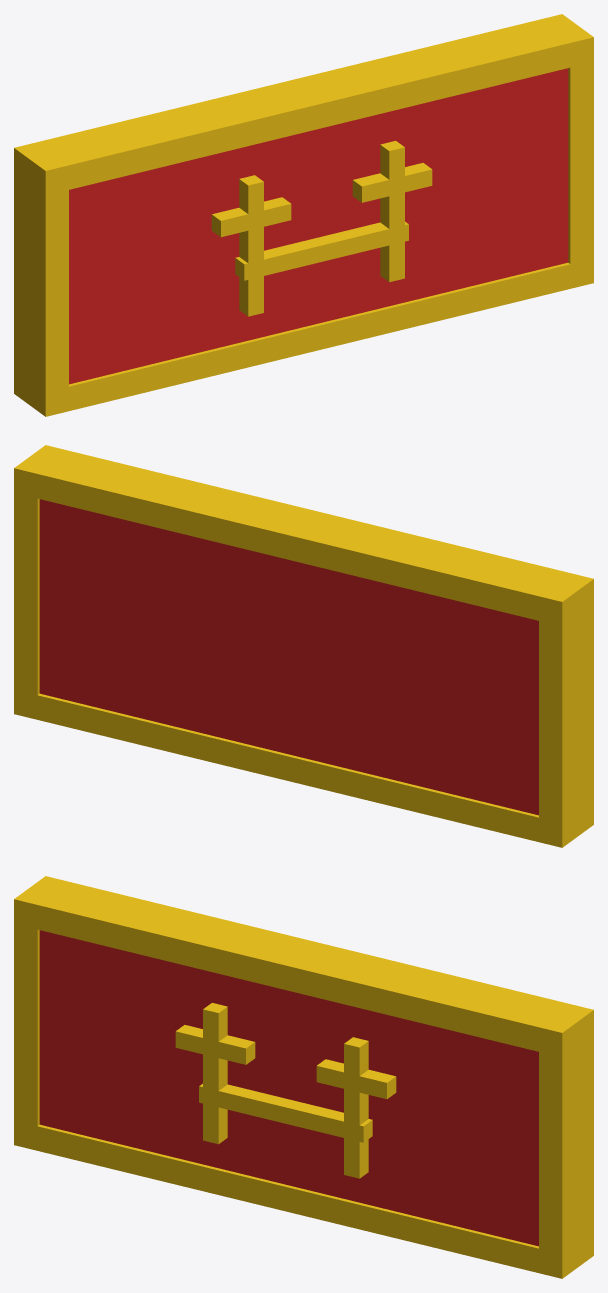
File: coconut-arch-crest.glb
3 renders of one model, top to bottom at view 1: azimuth 30°, elevation 25°; view 2: azimuth 150°, elevation 25°; view 3: azimuth 330°, elevation 25°, orthographic.
Parts seen in each view (by area): view 1: RootAsset; view 2: RootAsset; view 3: RootAsset.
Boxes of the visible parts, x1,y1,x2,y2 form: RootAsset: [14, 14, 593, 416]; RootAsset: [14, 445, 593, 847]; RootAsset: [14, 876, 593, 1278].
Bounding box in the file's own units: 1.4 × 0.6 × 0.17.
